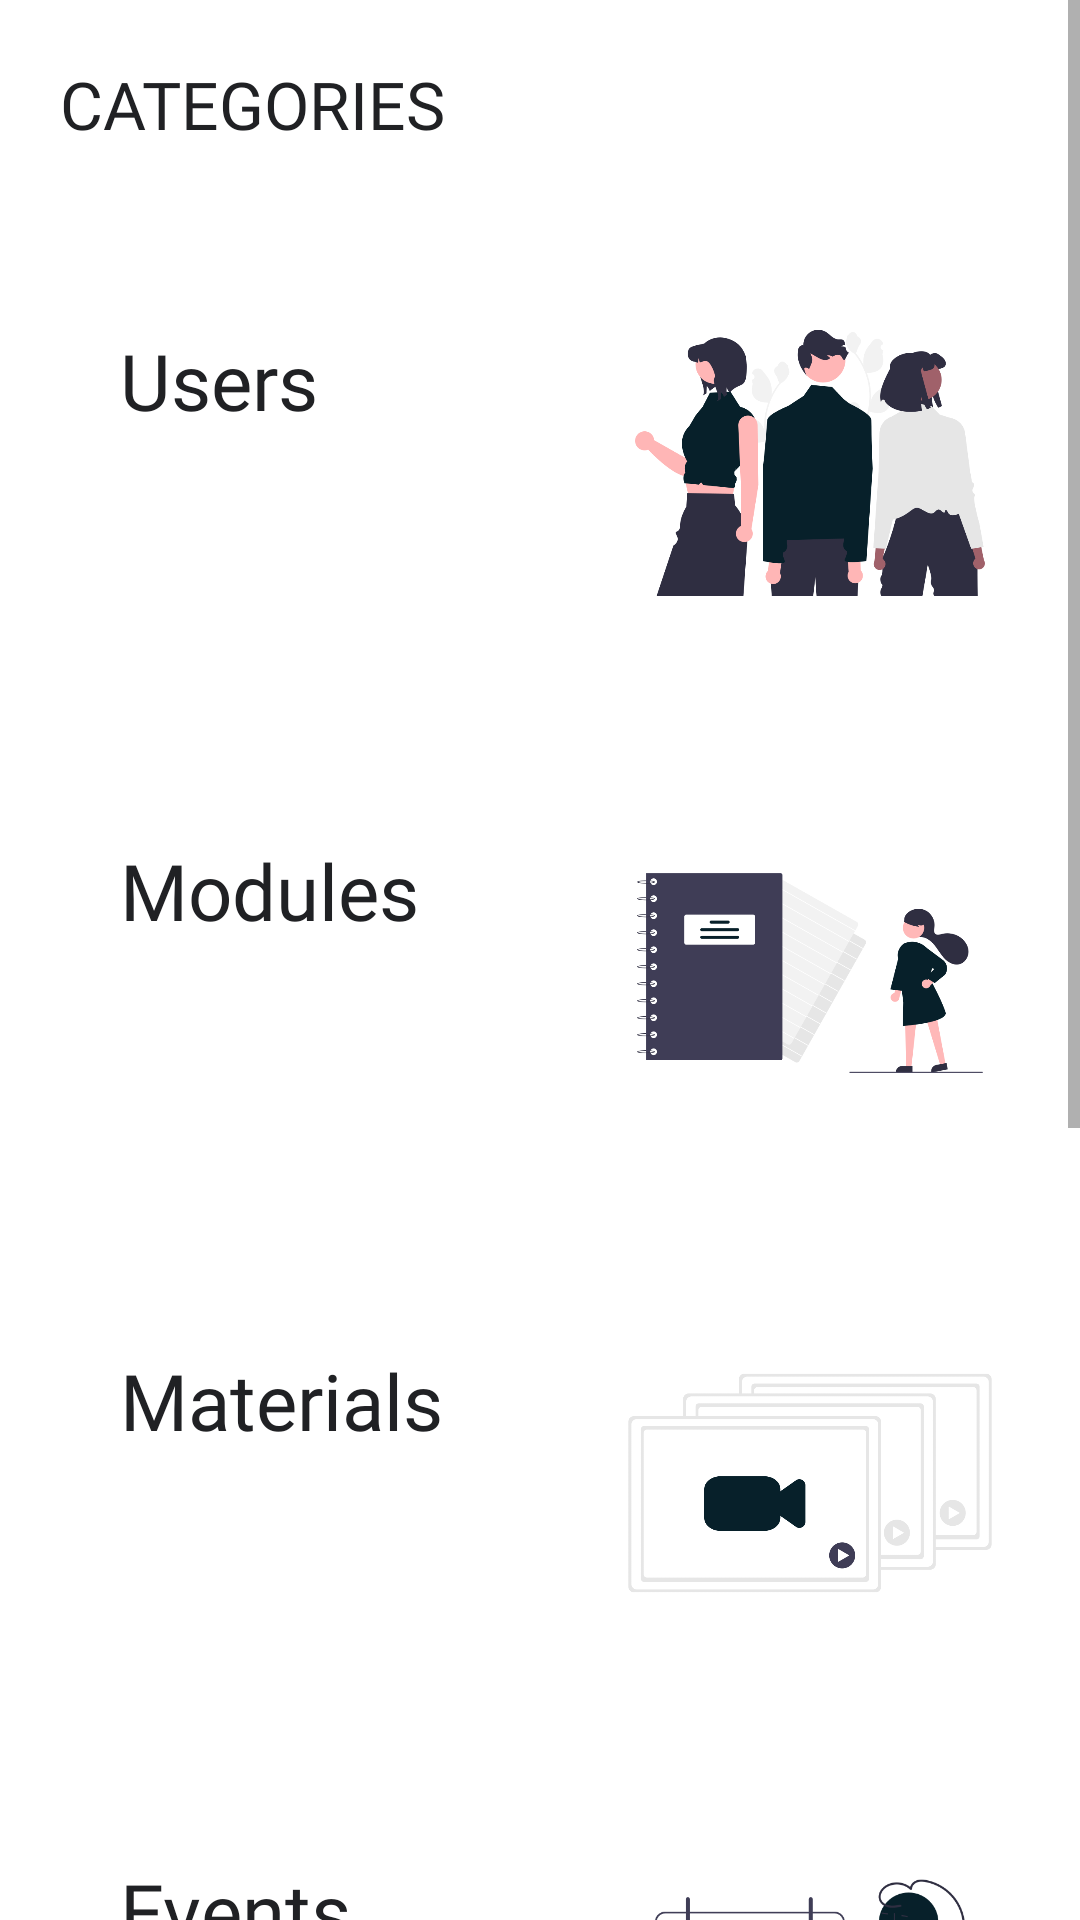

Where to tap for icons on this 1080px×1920px app screen, as (x,y):
moodules: (810,973)
peoples: (810,463)
